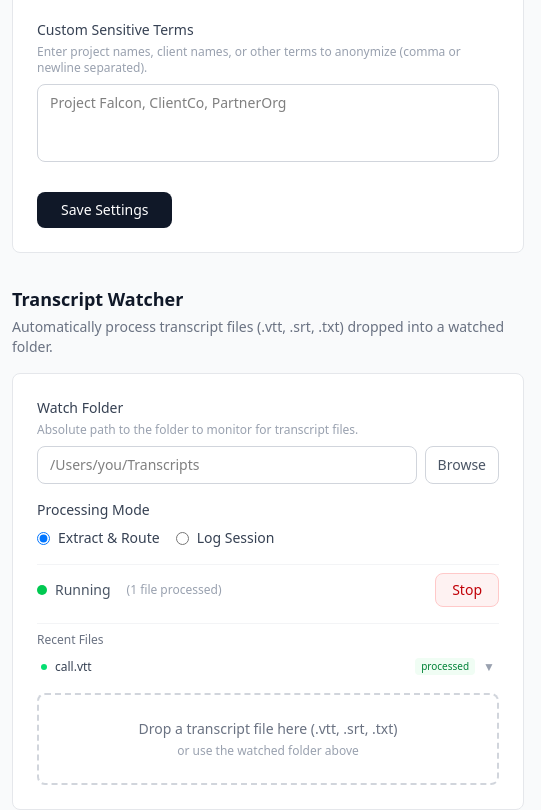
Scenario: Settings — Transcript Watcher › collapses expanded file on second click
(page scrolled)
Click the text "call.vtt" at (73, 666), box [55, 658, 92, 675]
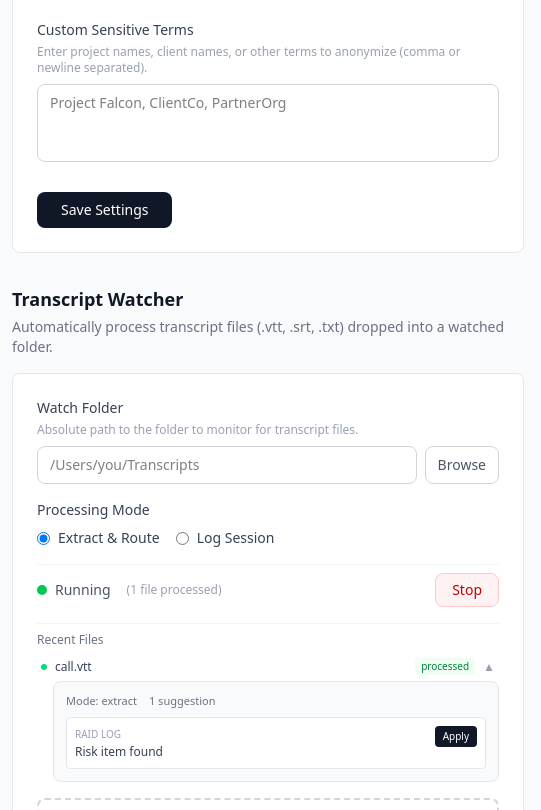
Expected: the text "raid log" is shown, [75, 727, 121, 741]
Click the text "call.vtt" at (73, 666), box [55, 658, 92, 675]
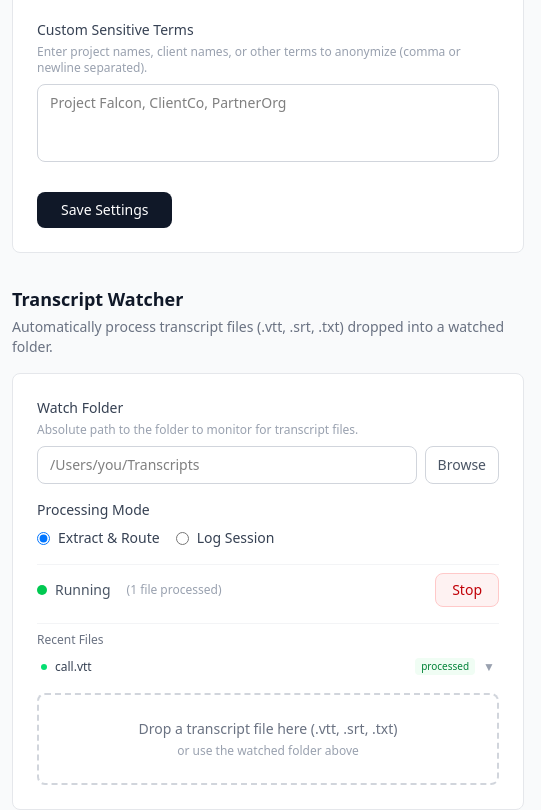
Expected: the text "raid log" is gone
